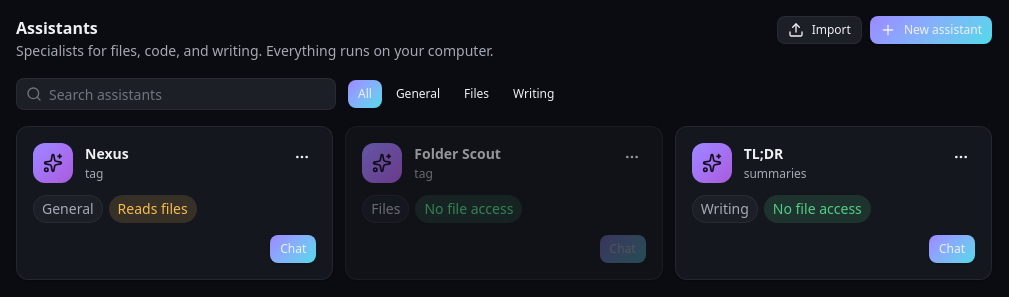
Test: the gallery lists cards, filters by search and category, and disables unbuilt pipelines
Expected: the heading "Nexus" is shown, [85,143,129,165]
Expected: the text "Reads files" is shown, [109,195,197,223]
Type "summar" into the field labelled "Search assistants" at (176, 94), box [16,78,336,110]
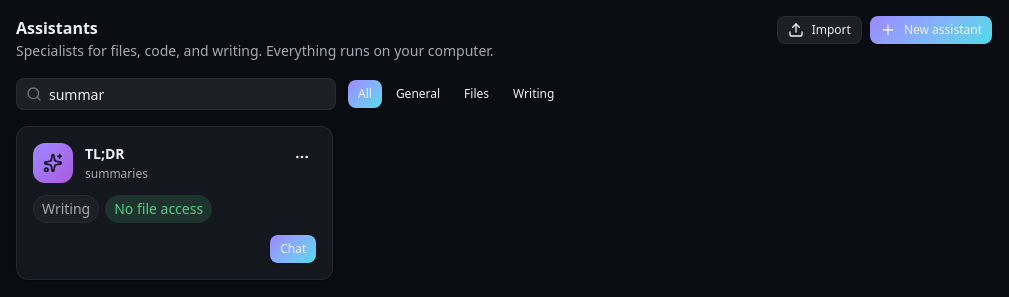
Expected: the heading "TL;DR" is shown, [85,143,125,165]
Expected: the heading "Nexus" is gone
Clear the field named "Search assistants" at (176, 94), box [16,78,336,110]
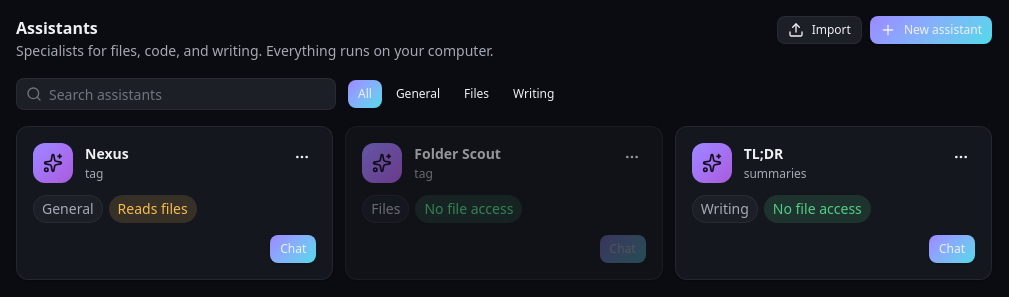
Click the tab "Files" at (477, 94), box [454,80,499,108]
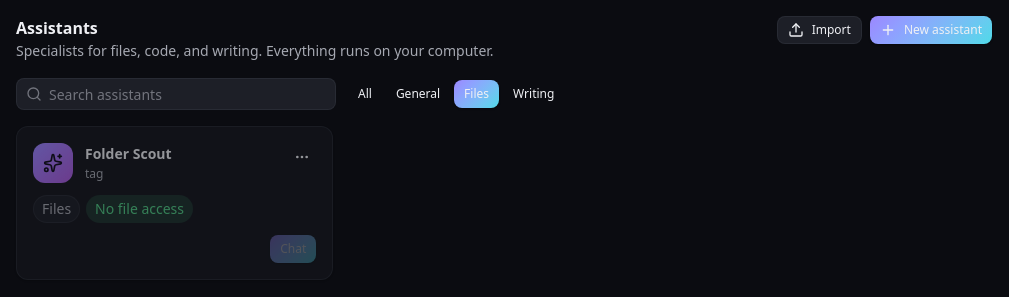
Expected: the heading "Folder Scout" is shown, [85,143,172,165]
Expected: the heading "TL;DR" is gone
